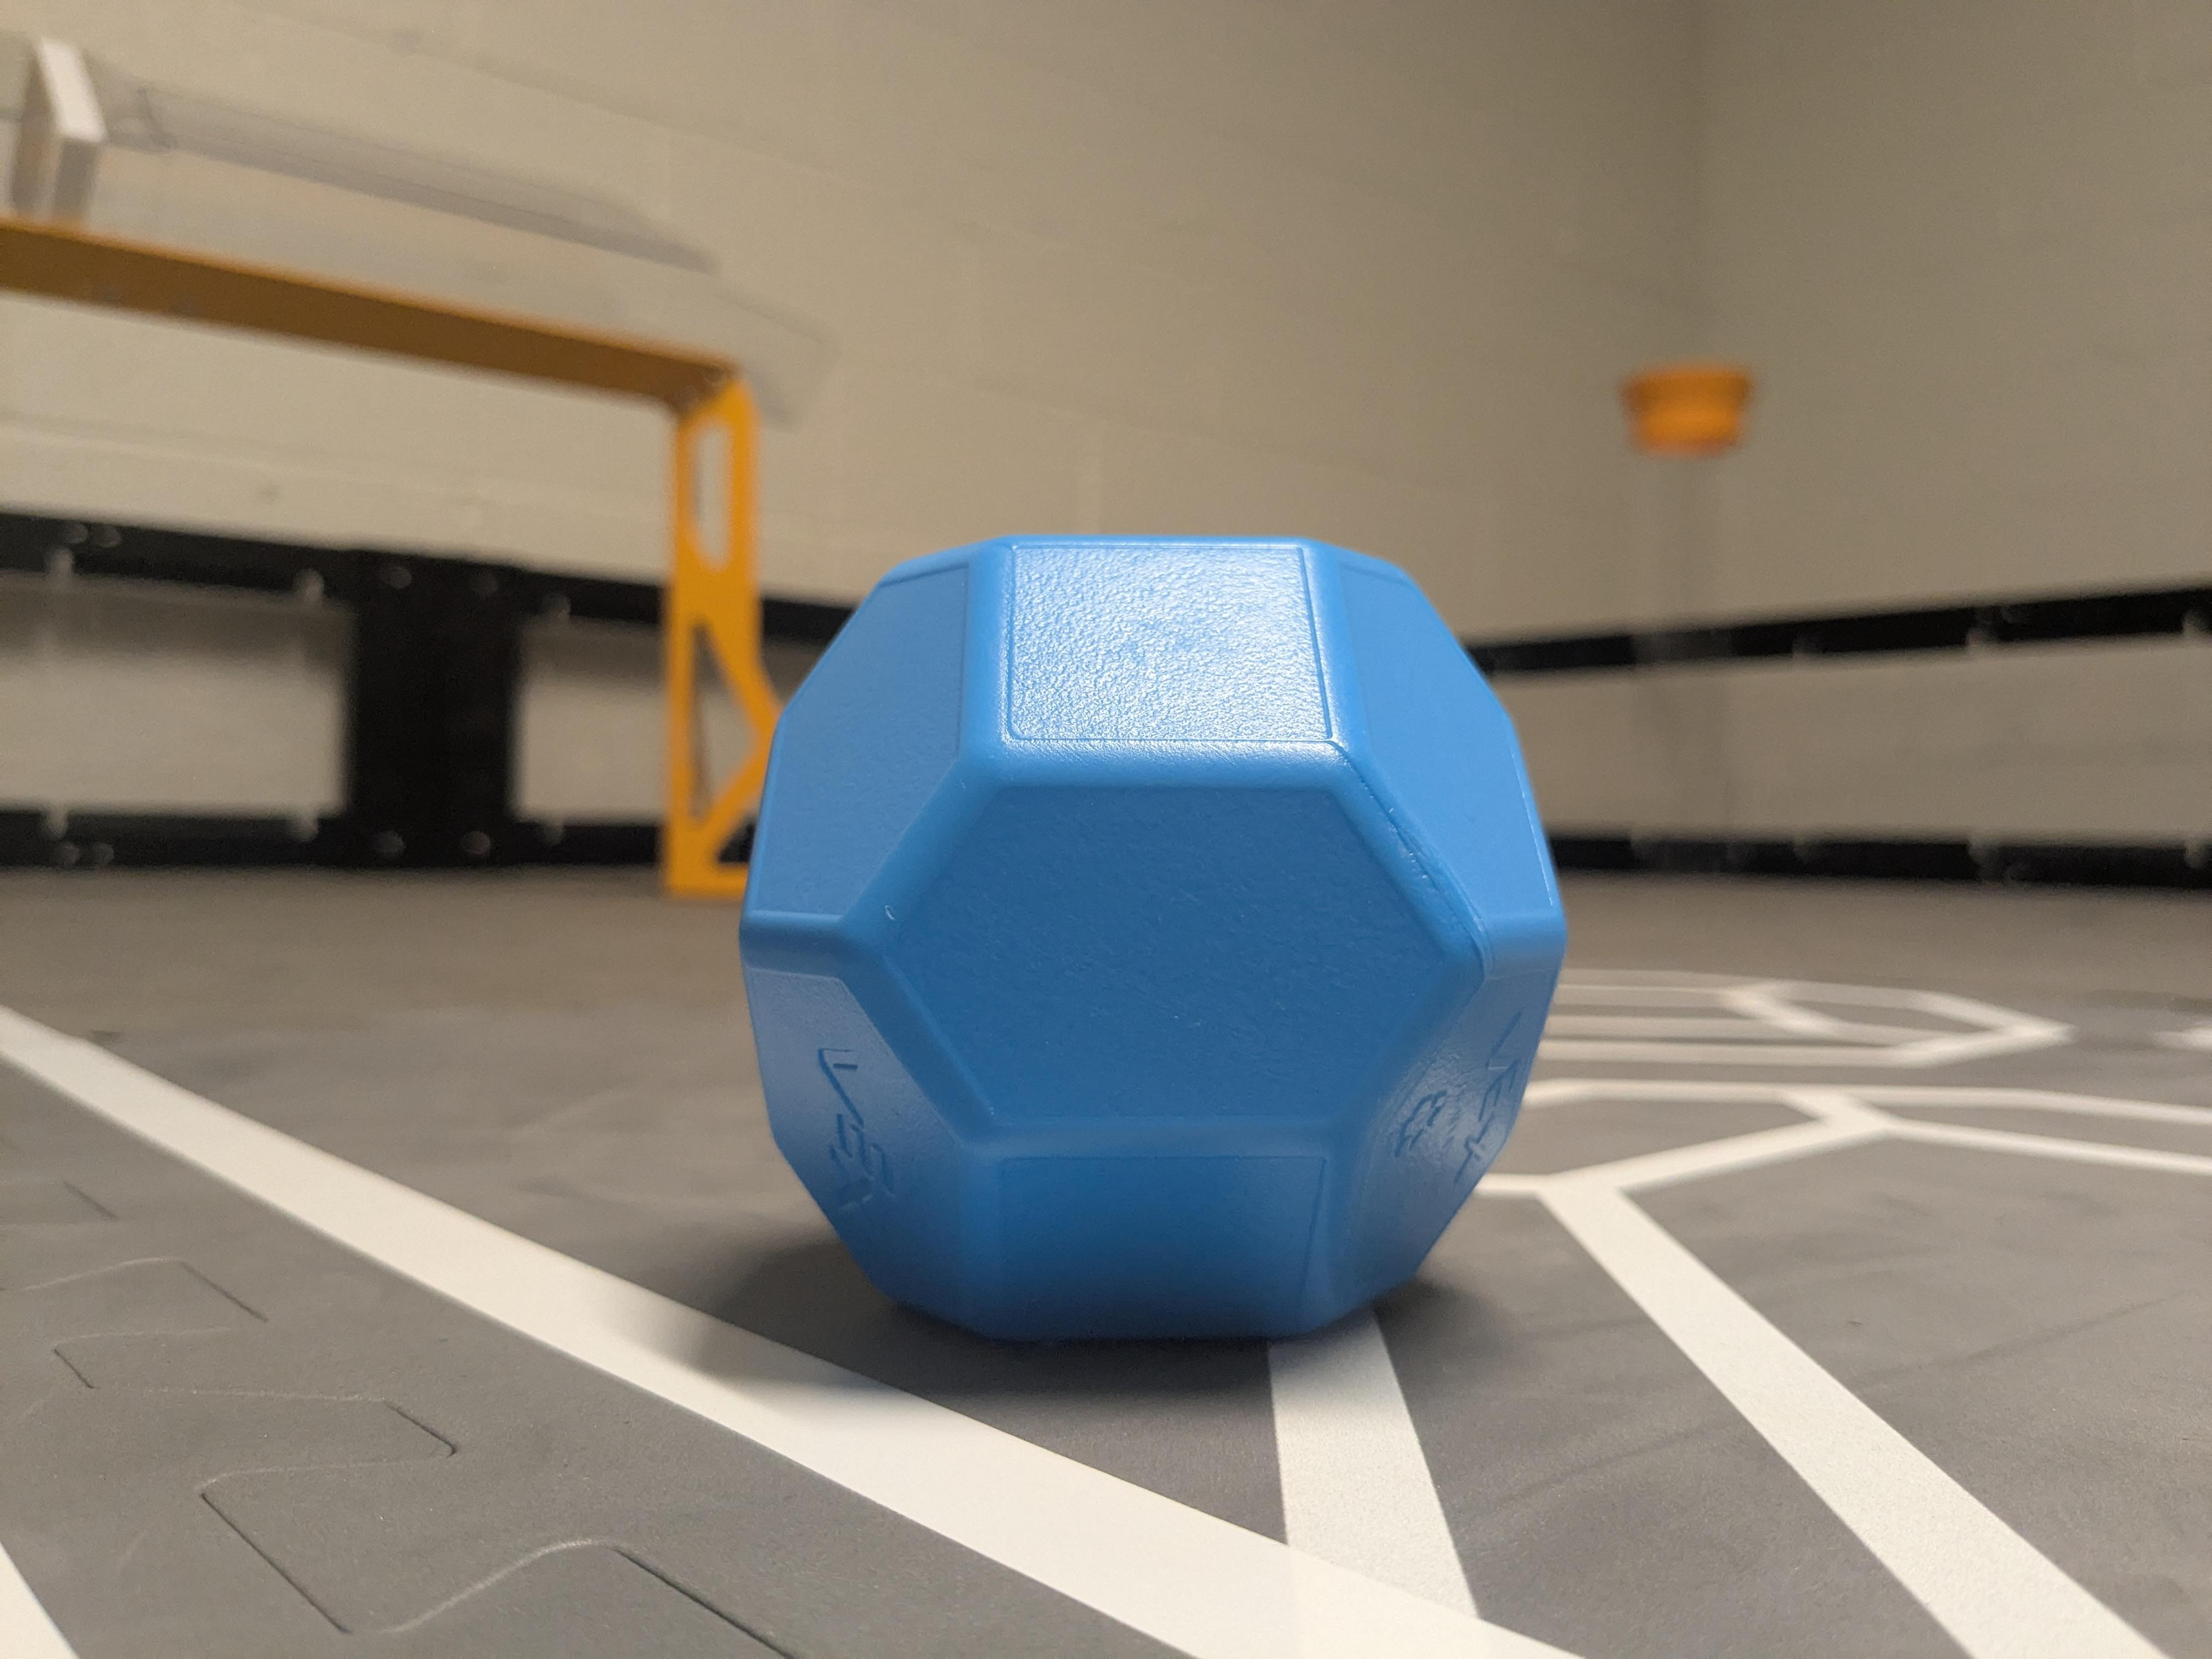Vex-Pieces-BLUE: (742, 538, 1566, 1338)
